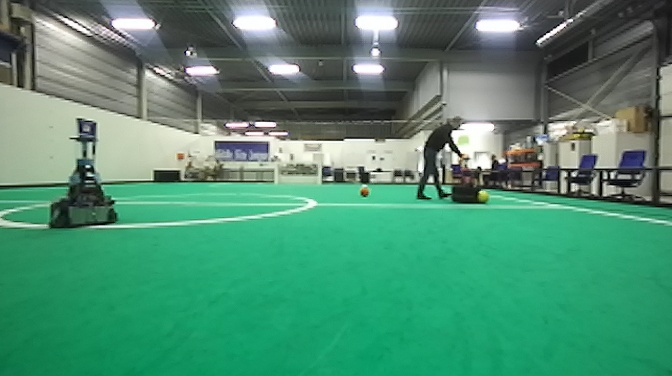ball: (358, 183, 371, 199), (478, 190, 490, 205)
goal: (275, 161, 323, 185)
goalpost: (273, 161, 280, 186), (317, 161, 322, 185)
human: (414, 113, 472, 202)
robot: (45, 113, 124, 231), (450, 153, 482, 205)
